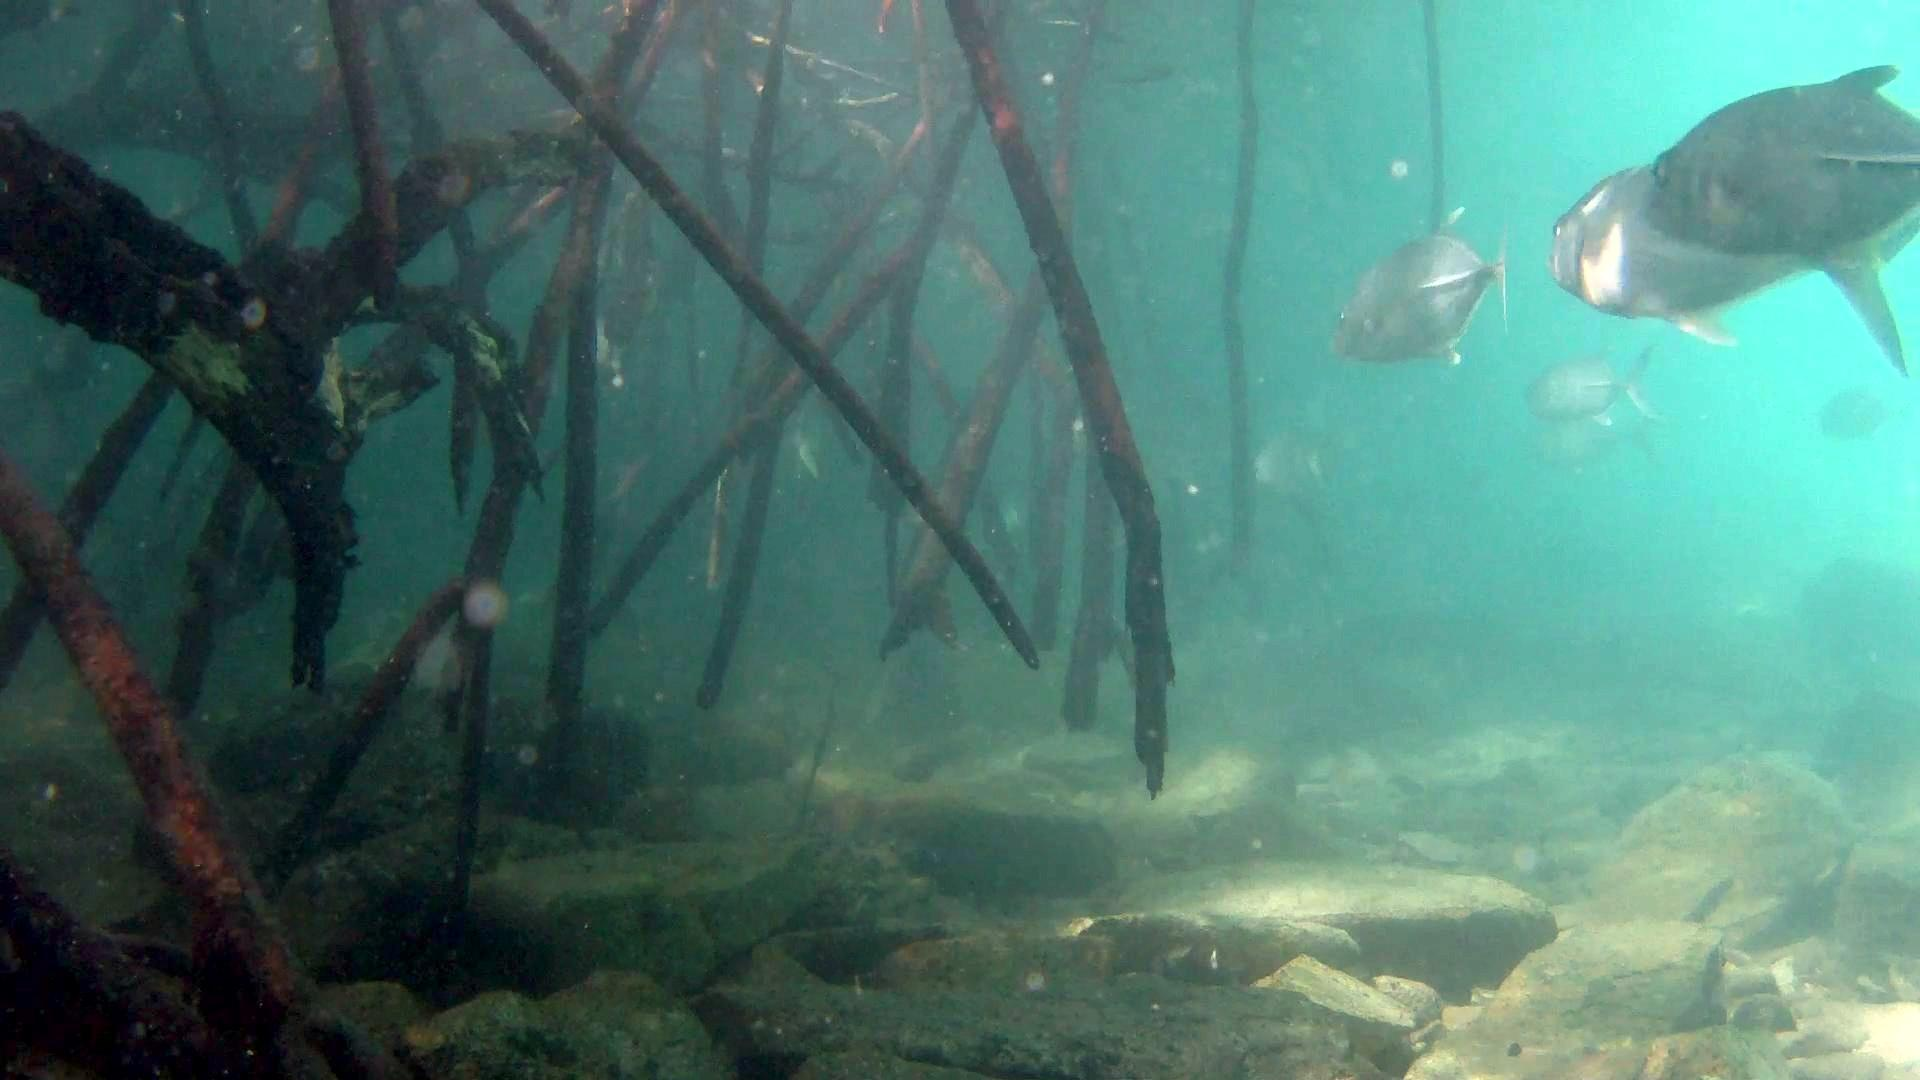caranx: (1531, 158, 1920, 388), (1629, 50, 1920, 255), (1320, 212, 1510, 369)
